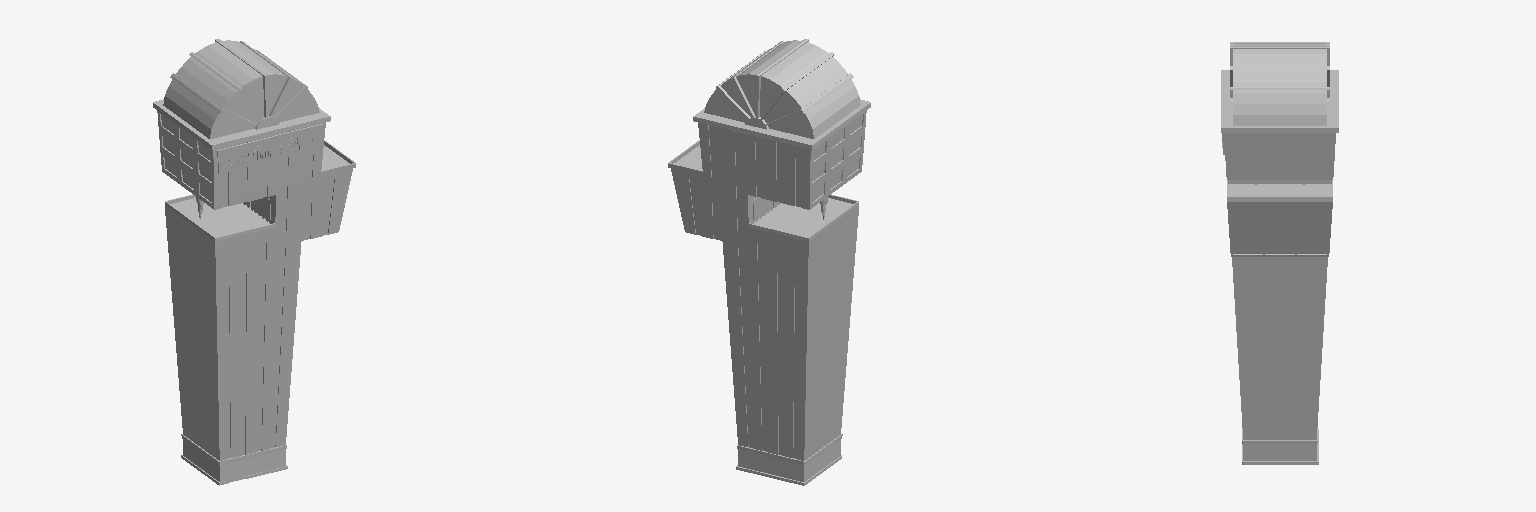
Rendered from EdoDufusFinal.obj.
3 renders of one model, left to right at view 1: azimuth 30°, elevation 25°; view 2: azimuth 150°, elevation 25°; view 3: azimuth 270°, elevation 25°, orthographic.
Parts seen in each view (by area): view 1: Text; view 2: Text; view 3: Text.
Boxes of the visible parts, x1=… form: Text: x1=153, y1=39, x2=355, y2=485; Text: x1=668, y1=39, x2=870, y2=485; Text: x1=1221, y1=42, x2=1338, y2=464.
Size of the model in its own units: 4.74 by 12.41 by 3.29.